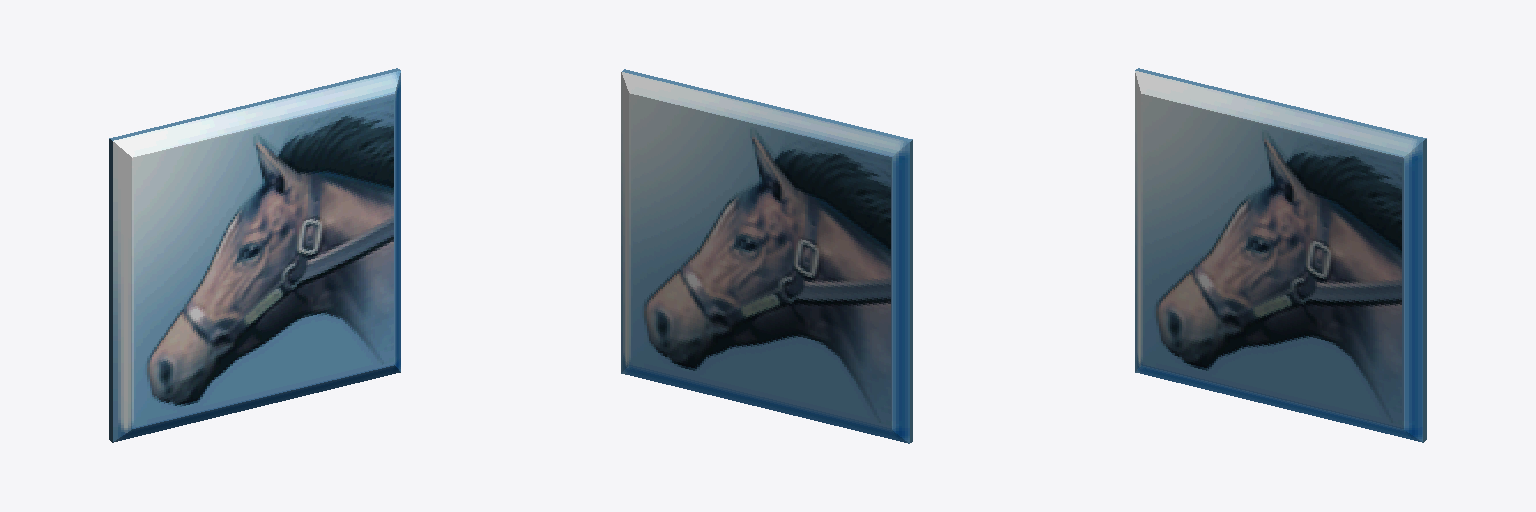
3 views of the same model, side by side, from view 1: azimuth 30°, elevation 25°; view 2: azimuth 150°, elevation 25°; view 3: azimuth 330°, elevation 25° (orthographic).
Bounding box in the file's own units: 5 × 5 × 0.4521.
Materials: 1 (1 with a texture image).